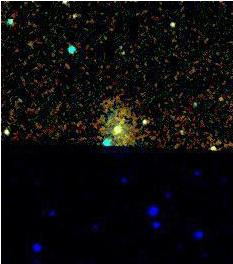star: (204, 80, 233, 110)
